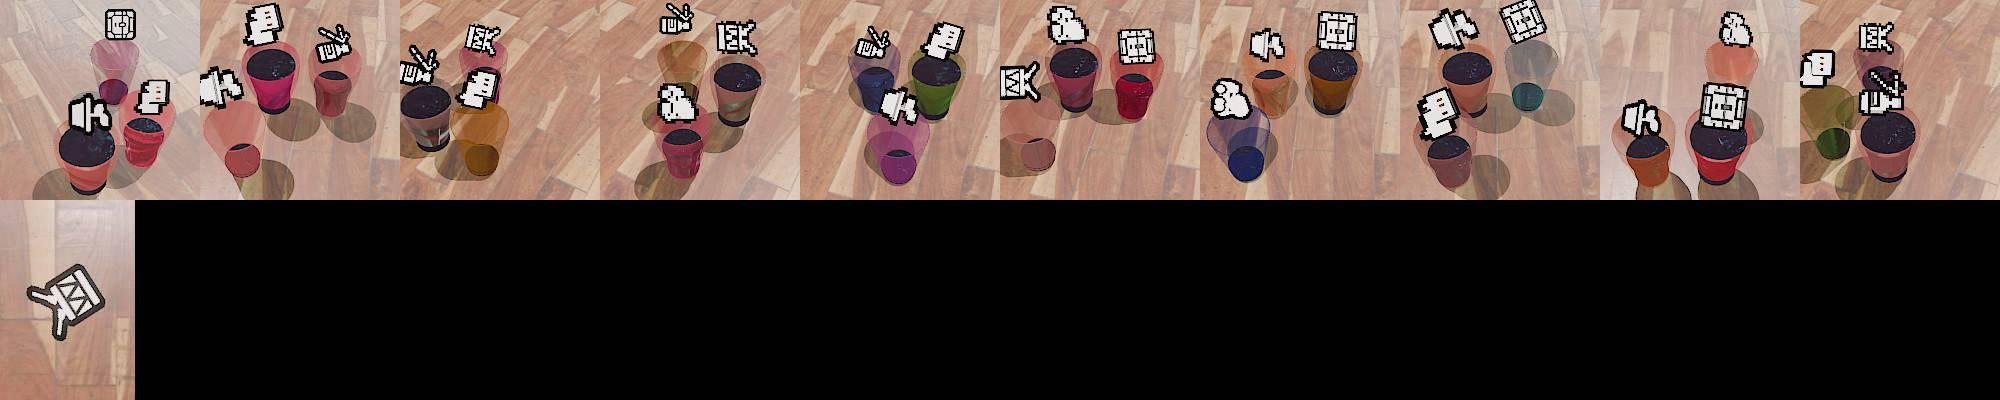icon: (26, 262, 107, 341), (1699, 80, 1750, 132), (1416, 85, 1459, 141), (1857, 68, 1907, 116), (1497, 0, 1548, 45), (1429, 8, 1478, 52), (455, 65, 501, 111), (198, 66, 246, 110), (66, 92, 114, 135), (656, 82, 702, 124), (1047, 3, 1091, 46), (920, 20, 964, 62), (1210, 75, 1253, 120), (1316, 10, 1357, 55), (879, 85, 923, 126), (244, 1, 283, 47), (401, 45, 439, 90), (1621, 98, 1662, 139), (716, 18, 759, 56), (1116, 27, 1157, 66), (1000, 61, 1041, 101), (1798, 48, 1837, 89), (134, 76, 172, 116), (316, 23, 352, 64), (1718, 10, 1755, 48), (463, 22, 503, 57), (853, 25, 892, 61), (1249, 28, 1287, 62), (658, 1, 695, 36), (1858, 20, 1895, 54), (105, 8, 136, 42)
